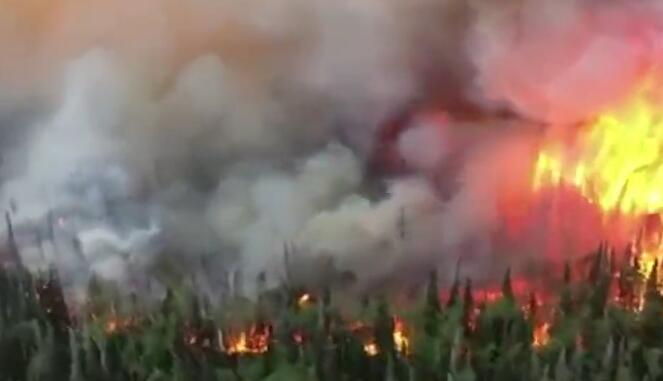fire: (528, 69, 663, 308), (441, 276, 553, 348), (193, 323, 274, 355), (351, 318, 412, 357)
yanwu: (1, 1, 662, 302)
